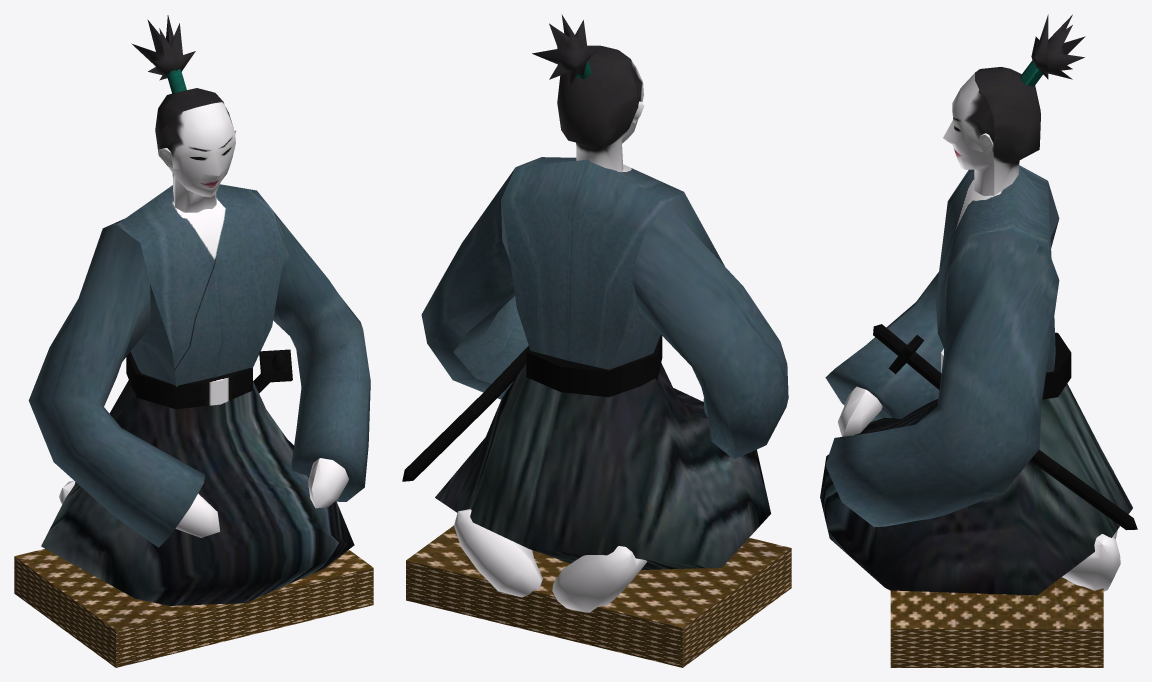
The model's file is SamouraiSculpture1.c.fbx.
3 renders of one model, left to right at view 1: azimuth 30°, elevation 25°; view 2: azimuth 150°, elevation 25°; view 3: azimuth 270°, elevation 25°, orthographic. The views are drawn at different scales.
Visible parts, largest first — view 1: Group 0; view 2: Group 0; view 3: Group 0.
Part boxes in pixels (x1=…): Group 0: x1=14, y1=15, x2=373, y2=667; Group 0: x1=402, y1=14, x2=791, y2=667; Group 0: x1=820, y1=14, x2=1137, y2=667.
Size of the model in its own units: 29.87 by 50.33 by 24.88.
1 material, 1 textured.
